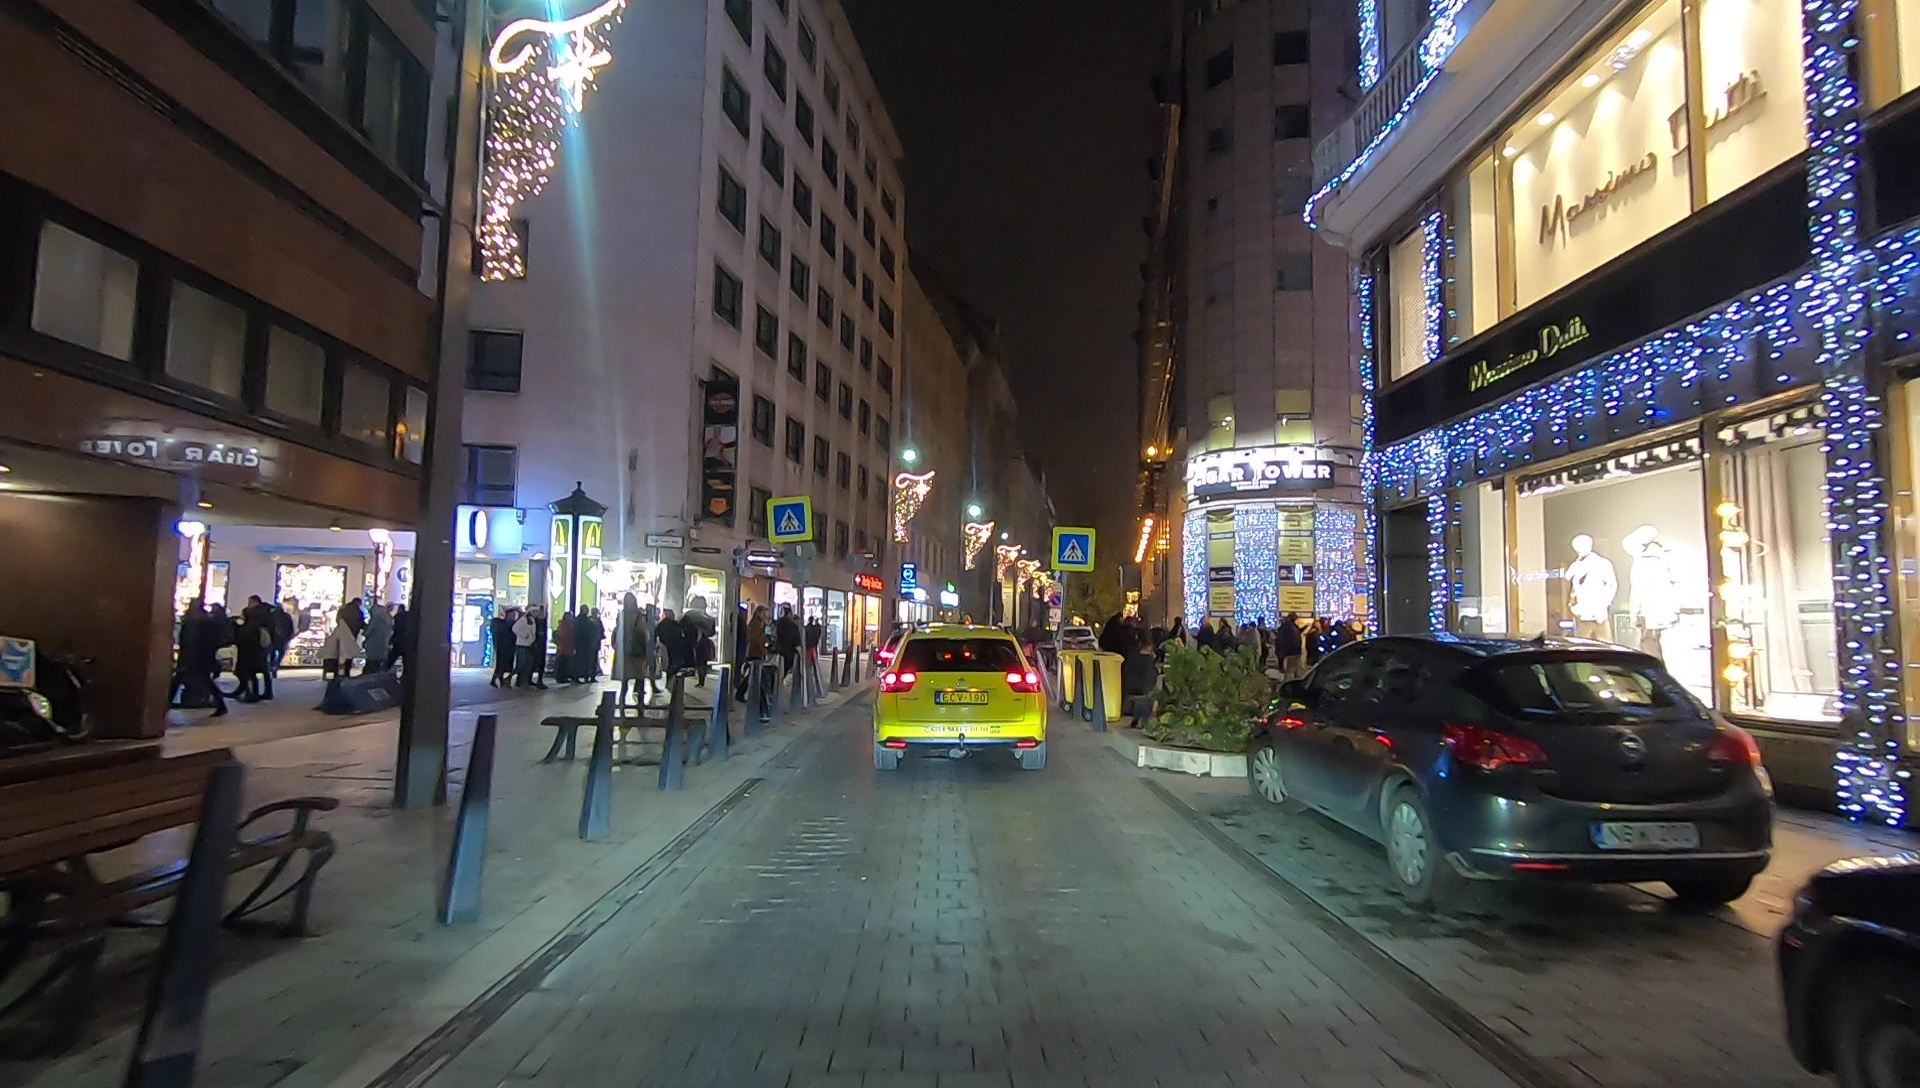person: (615, 597, 652, 715), (243, 593, 280, 704), (176, 597, 204, 711), (204, 599, 232, 711), (334, 597, 364, 680), (771, 602, 799, 689), (367, 599, 393, 689), (489, 611, 514, 695), (569, 604, 589, 697), (512, 606, 536, 689), (745, 604, 765, 702), (551, 608, 575, 689), (1276, 615, 1301, 684), (1239, 619, 1262, 687), (658, 608, 678, 682), (1197, 615, 1214, 682), (1215, 619, 1232, 682), (1171, 615, 1188, 676), (589, 606, 602, 687)
